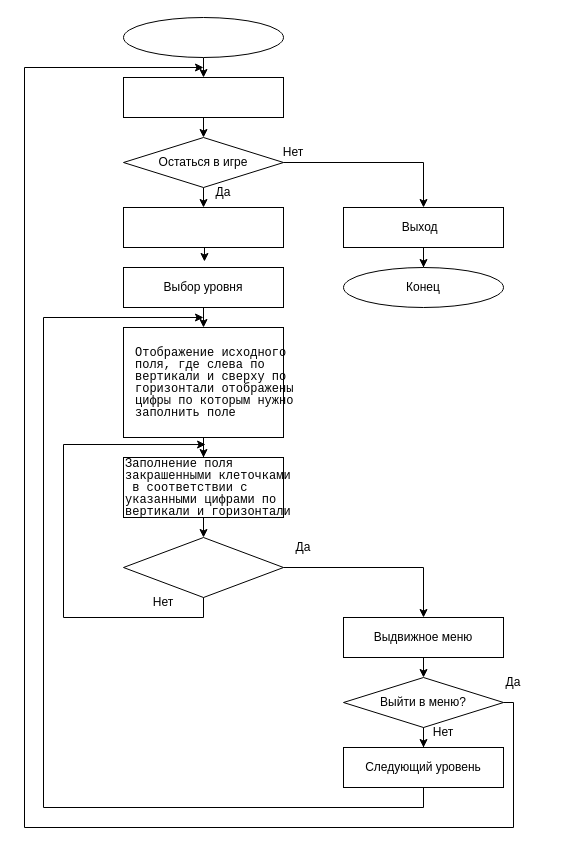
The diagram is 561 pixels wide and 853 high, and some of its shapes have lost their labels. The shapes that lost their labels are listed below. From the top down, each one's box as (x1, y1, x2, y2) in pixels, then its label:
(122, 16, 284, 58): начало
(122, 76, 284, 118): Меню
(122, 206, 284, 248): Играть
(122, 536, 284, 598): Проверка закрашенной клеточки
